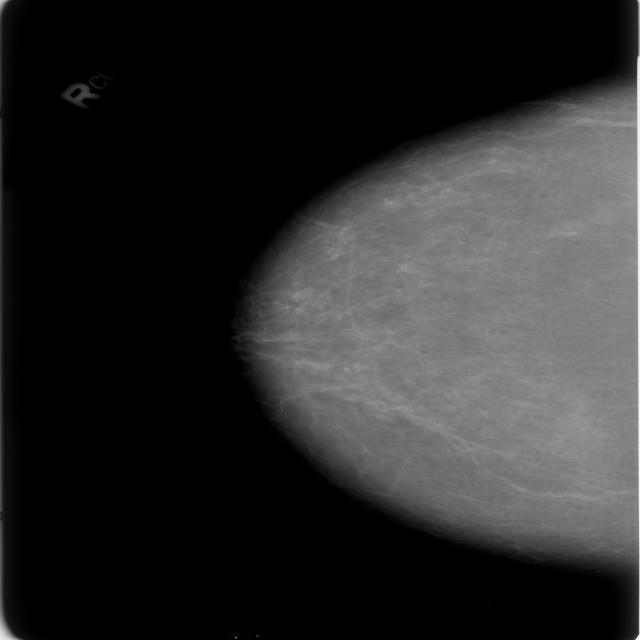normal: (219, 63, 640, 570)
